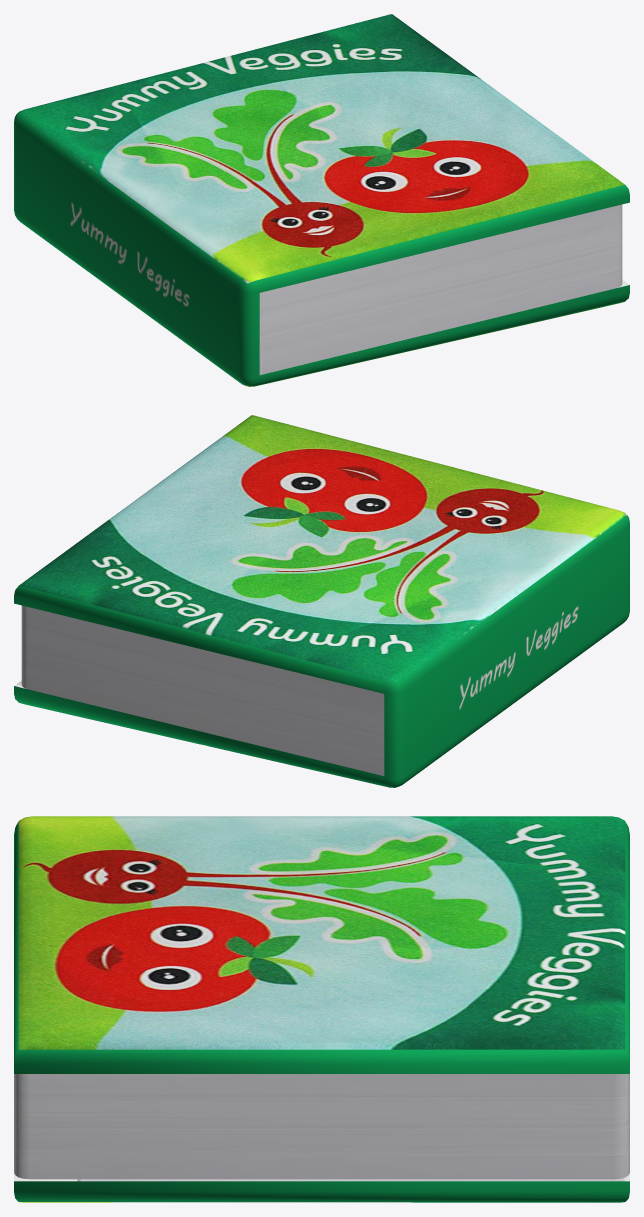
Rendered from Book 3.fbx.
The picture shows the model from 3 angles, top to bottom: view 1: azimuth 30°, elevation 25°; view 2: azimuth 150°, elevation 25°; view 3: azimuth 270°, elevation 25°; orthographic projection. The views are drawn at different scales.
Parts seen in each view (by area): view 1: Book 3; view 2: Book 3; view 3: Book 3.
Part boxes in pixels (box(x1,y1,x2,y2)): Book 3: box(14, 14, 629, 386); Book 3: box(14, 415, 629, 787); Book 3: box(14, 816, 629, 1202).
Bounding box in the file's own units: 97.62 × 29.94 × 104.
Materials: 1 (1 with a texture image).
